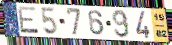4: (135, 10, 151, 40)
5: (40, 6, 59, 36)
6: (87, 10, 106, 37)
7: (65, 7, 82, 37)
9: (111, 9, 130, 39)
E: (16, 6, 40, 35)
